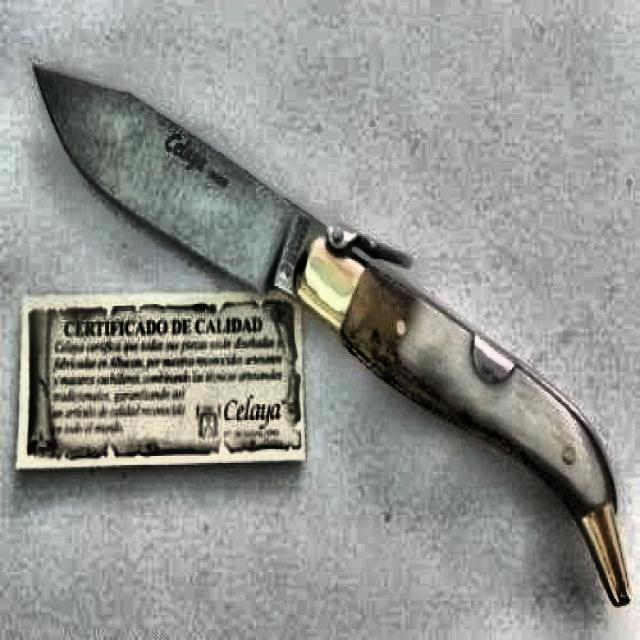knife: (34, 66, 630, 609)
